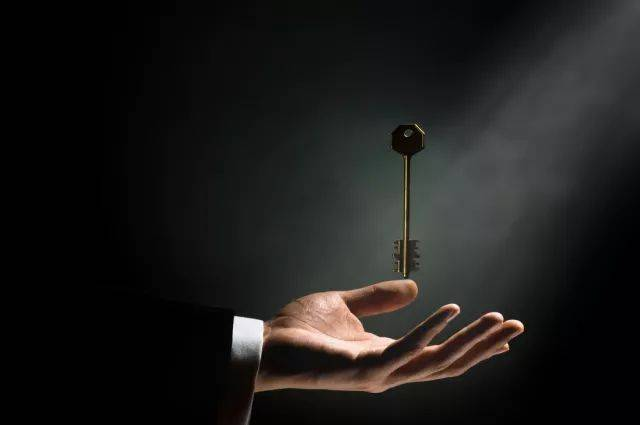key: (375, 110, 442, 290)
